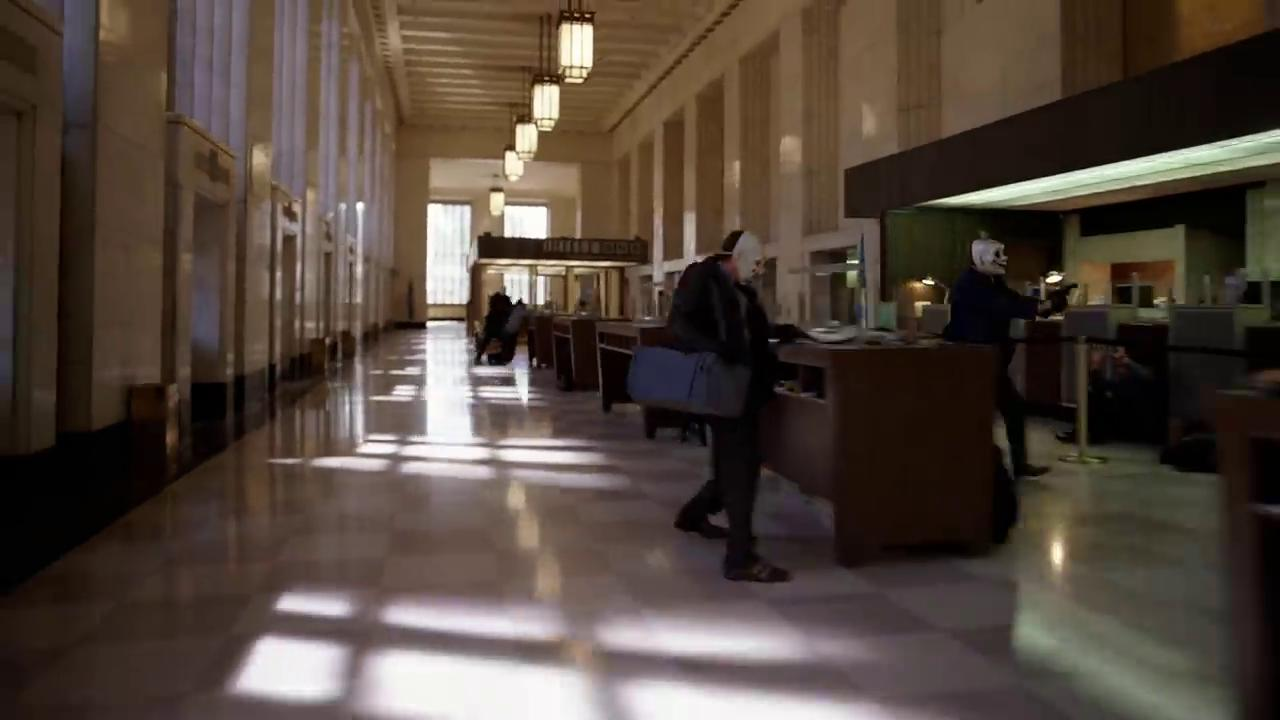gun: (1041, 278, 1080, 314), (781, 320, 822, 350)
